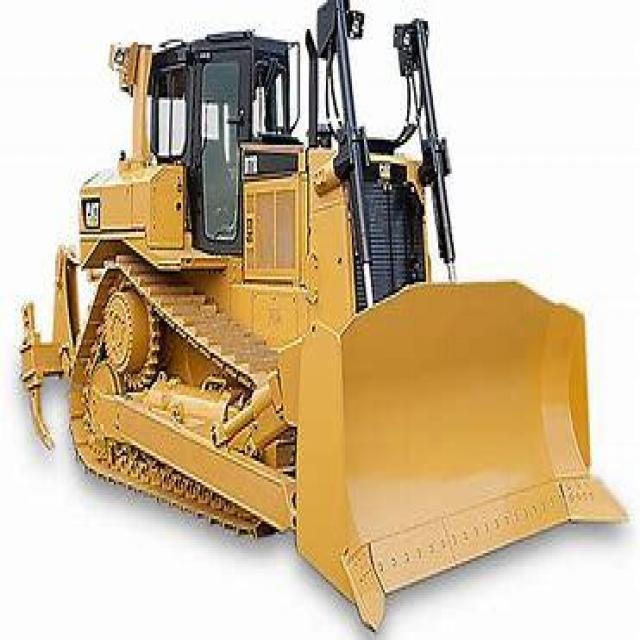Bulldozer: (10, 13, 628, 632)
